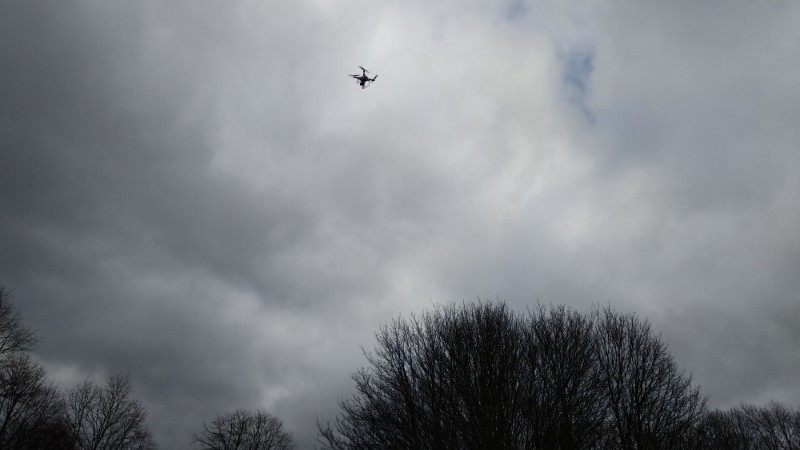drone: (349, 66, 380, 89)
